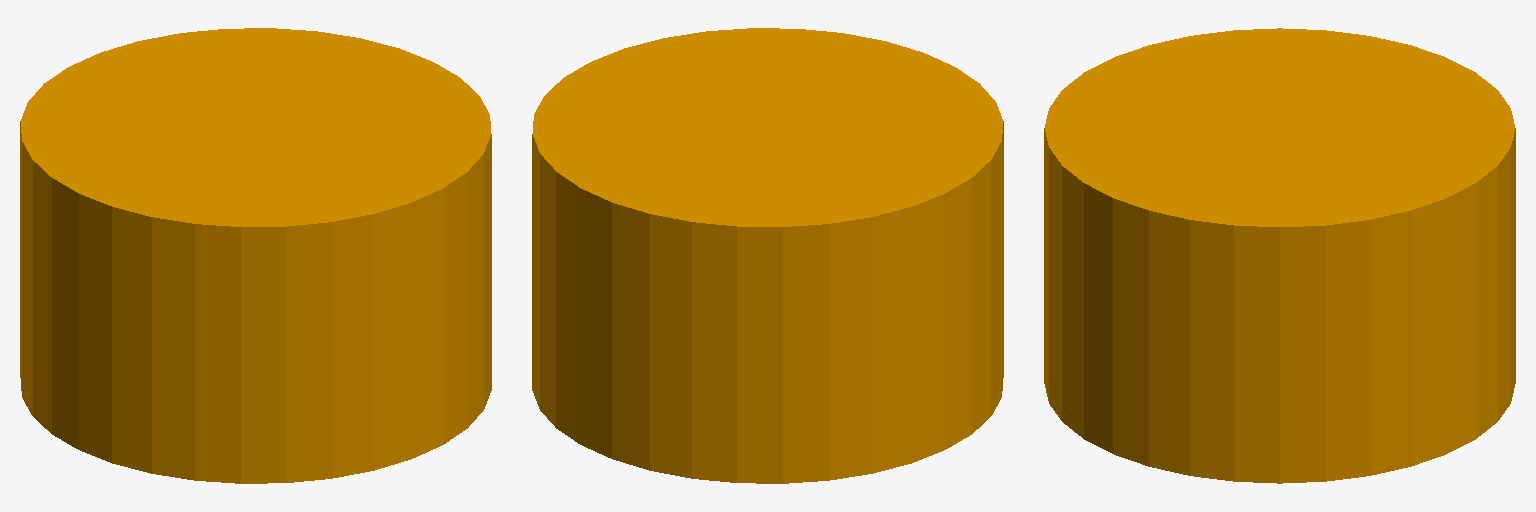
robot.urdf — cylinder:
<?xml version="1.0"?>
<robot name="cylinder">
  <link name="cylinder">
    <visual>
      <origin xyz="0 0 0"/>
      <geometry>
        <cylinder radius="0.05" length="0.06"/>
      </geometry>
    </visual>
    <collision>
      <origin xyz="0 0 0"/>
      <geometry>
        <cylinder radius="0.05" length="0.06"/>
      </geometry>
    </collision>
    <inertial>
      <mass value="0.5"/>
      <inertia ixx="0.01" ixy="0.0" ixz="0.0" iyy="0.01" iyz="0.0" izz="0.01"/>
    </inertial>
  </link>
</robot>

--- Facts derived from the render (not from the file) ---
Views: 3 orthographic renders of the robot side by side, from view 1: azimuth 30°, elevation 25°; view 2: azimuth 150°, elevation 25°; view 3: azimuth 270°, elevation 25°.
Robot: cylinder — 1 links, 0 joints (none); root link cylinder; default pose: all joints at 0.
Links seen in each view (by area): view 1: cylinder; view 2: cylinder; view 3: cylinder.
Boxes of the visible links, x1,y1,x2,y2 form: cylinder: (20,28,491,483); cylinder: (532,28,1003,483); cylinder: (1044,28,1515,483).
Size in the robot's own frame: 0.1 by 0.1 by 0.06 metres.
Geometry: primitives only (box / cylinder / sphere), no mesh files.